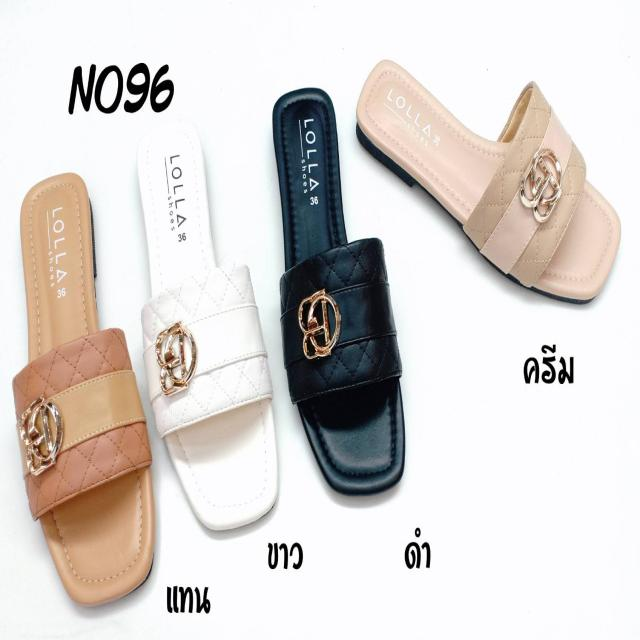black: (274, 84, 406, 489)
cream: (355, 59, 621, 314)
tan: (18, 180, 158, 610)
white: (135, 129, 278, 530)
